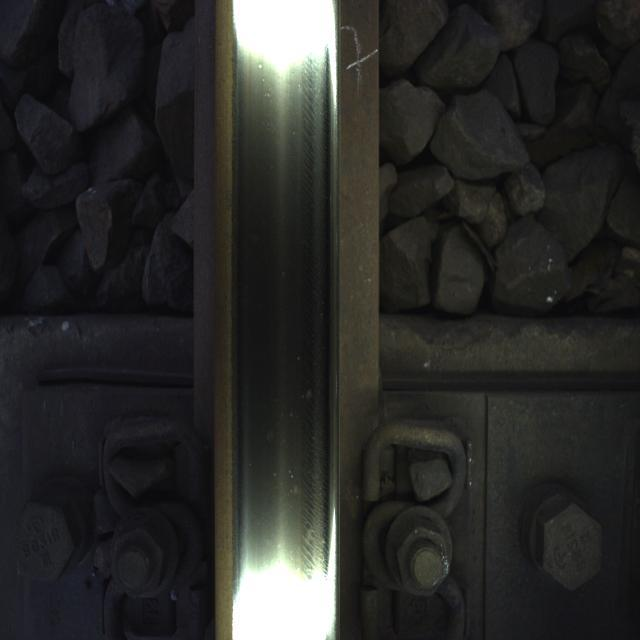break: (238, 39, 328, 575)
